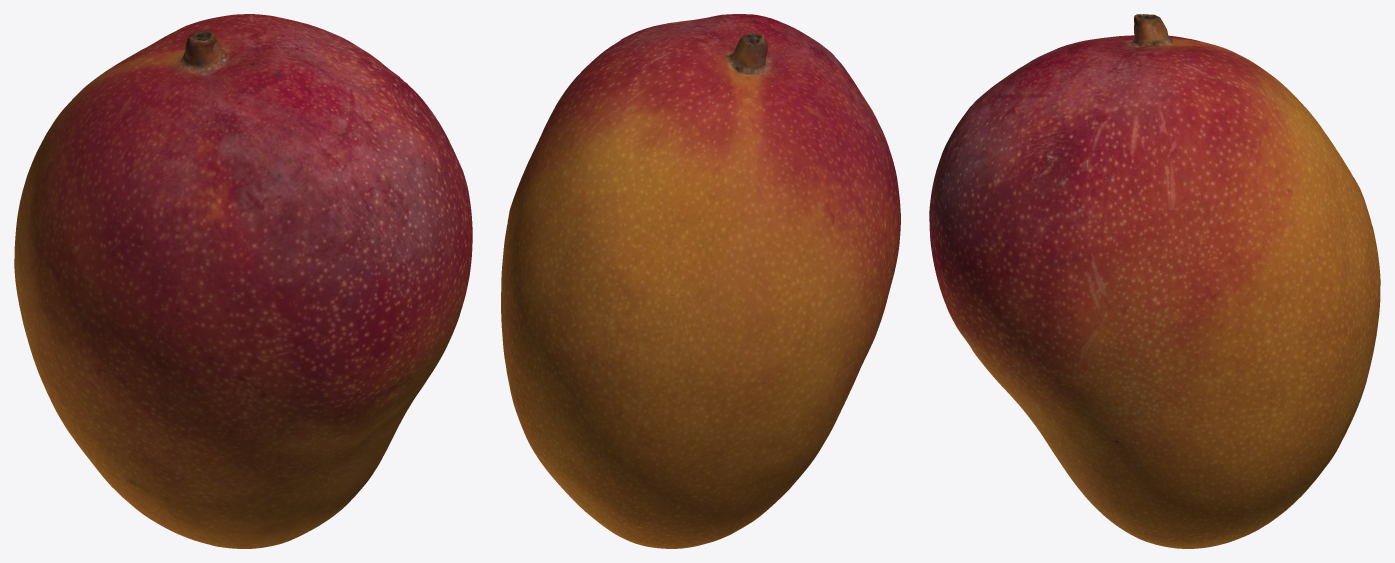
Rendered from scene_web.glb.
3 renders of one model, left to right at view 1: azimuth 30°, elevation 25°; view 2: azimuth 150°, elevation 25°; view 3: azimuth 270°, elevation 25°, orthographic. The views are drawn at different scales.
Parts seen in each view (by area): view 1: Object_2; view 2: Object_2; view 3: Object_2.
Boxes of the visible parts, bbox=[...] form: Object_2: bbox=[14, 14, 472, 548]; Object_2: bbox=[501, 14, 900, 548]; Object_2: bbox=[929, 14, 1380, 548].
Bounding box in the file's own units: 0.063 × 0.0875 × 0.0724.
Materials: 1 (1 with a texture image).
